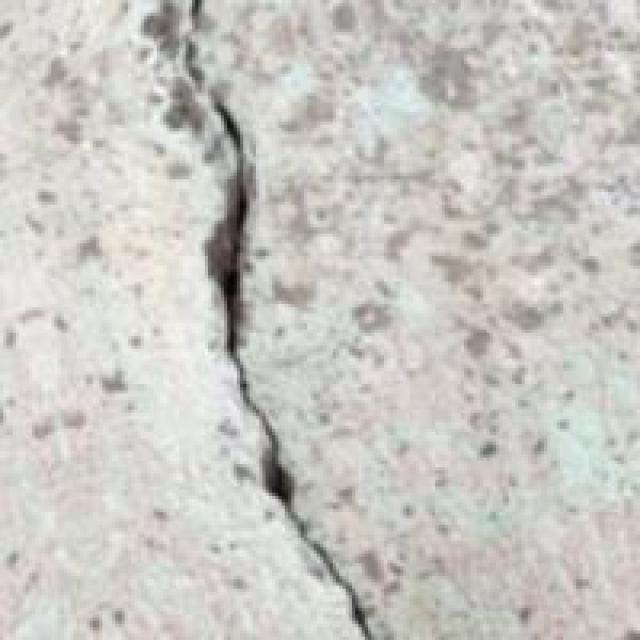crack: (130, 0, 412, 640)
